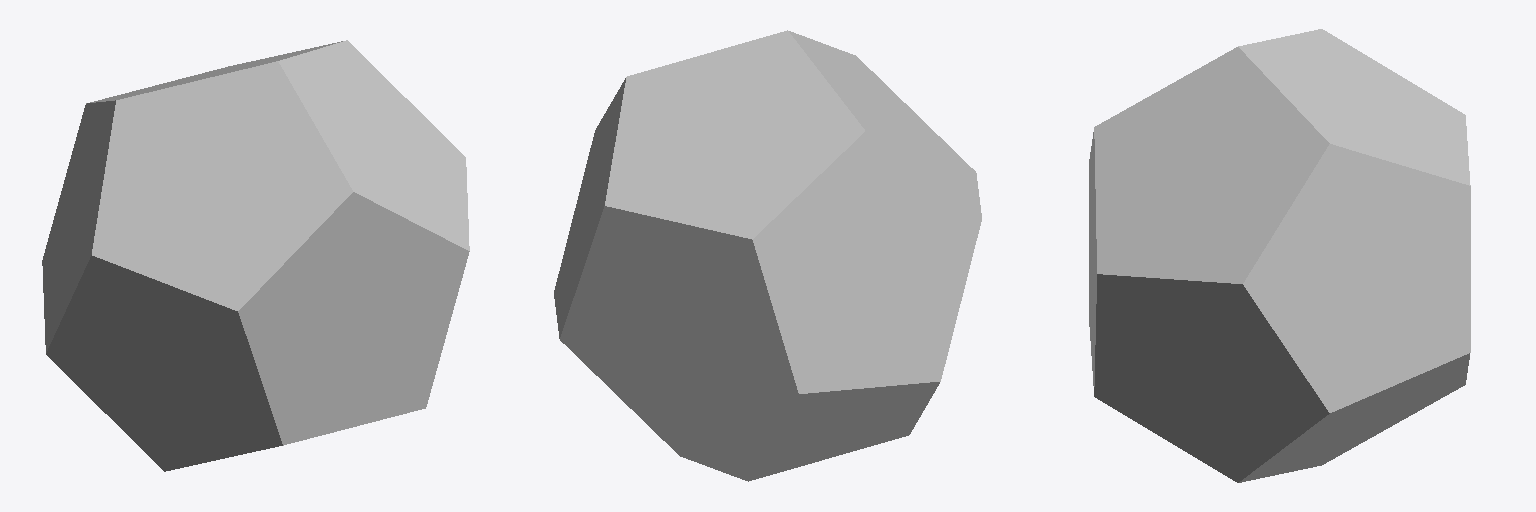
The model's file is dod.obj.
3 views of the same model, side by side, from view 1: azimuth 30°, elevation 25°; view 2: azimuth 150°, elevation 25°; view 3: azimuth 270°, elevation 25° (orthographic).
Parts seen in each view (by area): view 1: dodecahedron; view 2: dodecahedron; view 3: dodecahedron.
Part boxes in pixels (bbox=[...]): dodecahedron: bbox=[42, 40, 469, 471]; dodecahedron: bbox=[554, 30, 981, 481]; dodecahedron: bbox=[1089, 29, 1470, 482].
Size of the model in its own units: 1.13 by 1.18 by 0.9708.